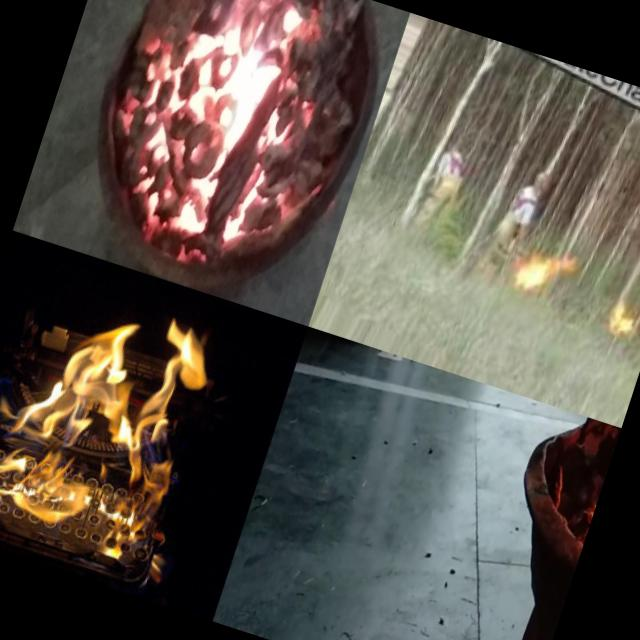fire: (0, 258, 239, 587), (88, 0, 356, 271), (515, 235, 582, 303), (597, 289, 640, 347)
